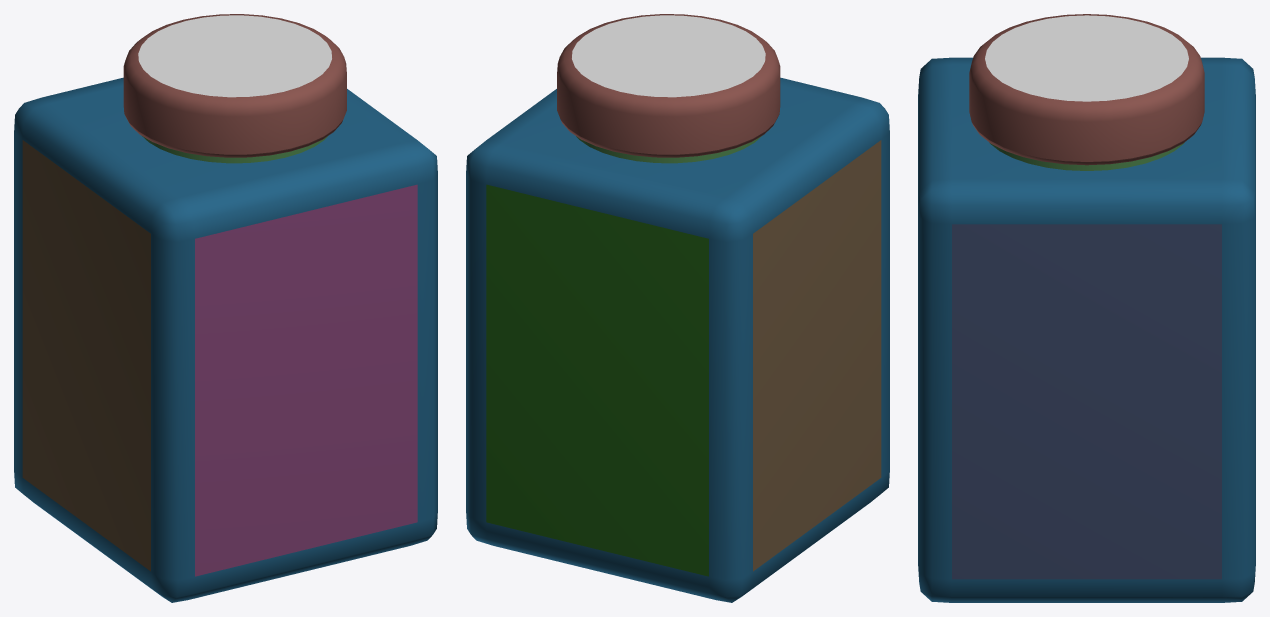
File: Container_Style_17.fbx
The picture shows the model from 3 angles, left to right: view 1: azimuth 30°, elevation 25°; view 2: azimuth 150°, elevation 25°; view 3: azimuth 270°, elevation 25°; orthographic projection. The views are drawn at different scales.
Visible parts, largest first — view 1: SetA_Container_Style_17; view 2: SetA_Container_Style_17; view 3: SetA_Container_Style_17.
Boxes of the visible parts, bbox=[...] form: SetA_Container_Style_17: bbox=[14, 14, 437, 602]; SetA_Container_Style_17: bbox=[466, 14, 889, 602]; SetA_Container_Style_17: bbox=[918, 14, 1255, 602].
Bounding box in the file's own units: 0.2762 × 0.4372 × 0.2762.
